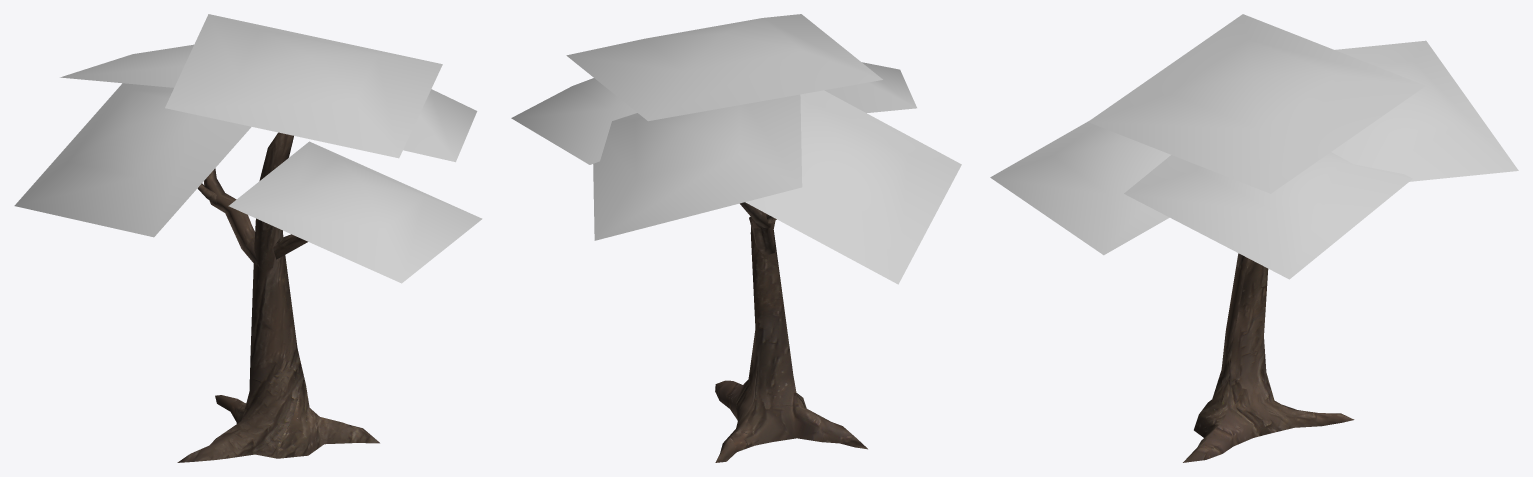
File: Tree_14_Green.FBX
3 views of the same model, side by side, from view 1: azimuth 30°, elevation 25°; view 2: azimuth 150°, elevation 25°; view 3: azimuth 270°, elevation 25° (orthographic). The views are drawn at different scales.
Parts seen in each view (by area): view 1: Object009, Object008; view 2: Object009, Object008; view 3: Object009, Object008.
Boxes of the visible parts, bbox=[...] form: Object009: bbox=[14, 14, 482, 283]; Object008: bbox=[177, 132, 379, 462]; Object009: bbox=[511, 14, 961, 284]; Object008: bbox=[715, 202, 867, 462]; Object009: bbox=[990, 14, 1518, 279]; Object008: bbox=[1183, 253, 1354, 462].
Bounding box in the file's own units: 180 × 153 × 198.
